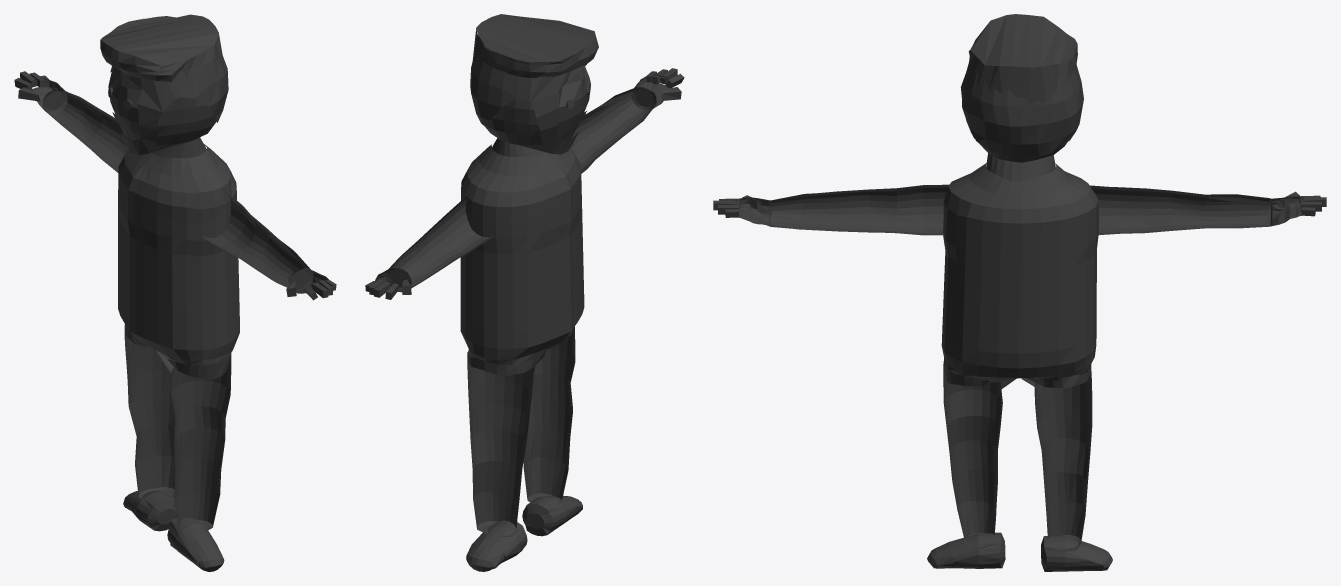
Rendered from avatar.glb.
3 views of the same model, side by side, from view 1: azimuth 30°, elevation 25°; view 2: azimuth 150°, elevation 25°; view 3: azimuth 270°, elevation 25° (orthographic). The views are drawn at different scales.
Parts seen in each view (by area): view 1: world; view 2: world; view 3: world.
Part boxes in pixels (bbox=[...]): world: bbox=[14, 14, 336, 571]; world: bbox=[365, 14, 684, 571]; world: bbox=[713, 14, 1326, 571].
Size of the model in its own units: 0.7207 by 2.98 by 3.17.
Materials: 1 (1 with a texture image).
